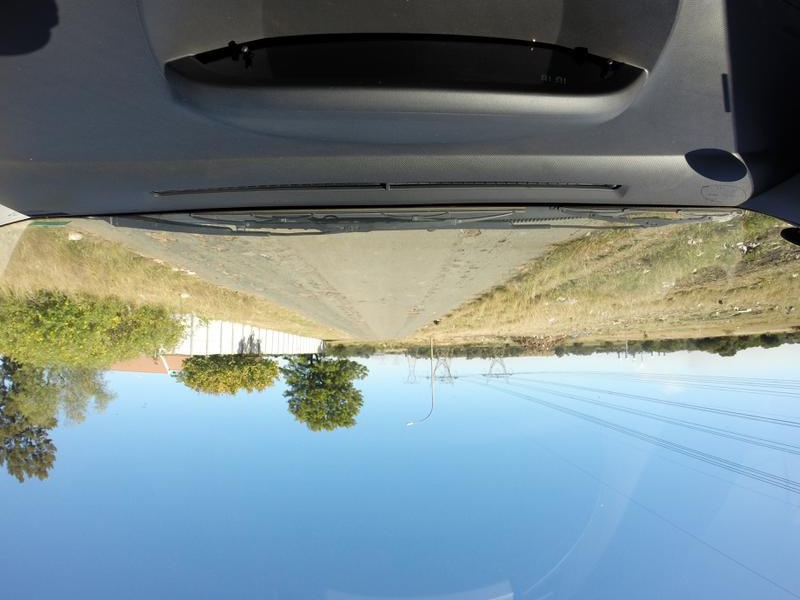pothole: (147, 232, 174, 252), (257, 251, 279, 265), (211, 231, 234, 244), (457, 228, 481, 239), (223, 274, 247, 285), (312, 291, 340, 296), (405, 308, 420, 316), (211, 247, 228, 252), (495, 239, 508, 243)
